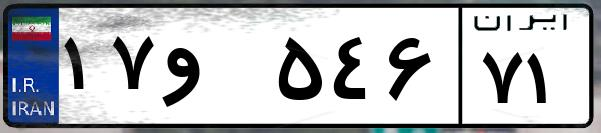1: (57, 26, 110, 100), (525, 38, 570, 115)
4: (330, 28, 385, 110)
5: (270, 28, 330, 110)
6: (385, 28, 445, 110)
7: (475, 38, 525, 113), (110, 28, 158, 98)
و: (158, 20, 270, 120)
